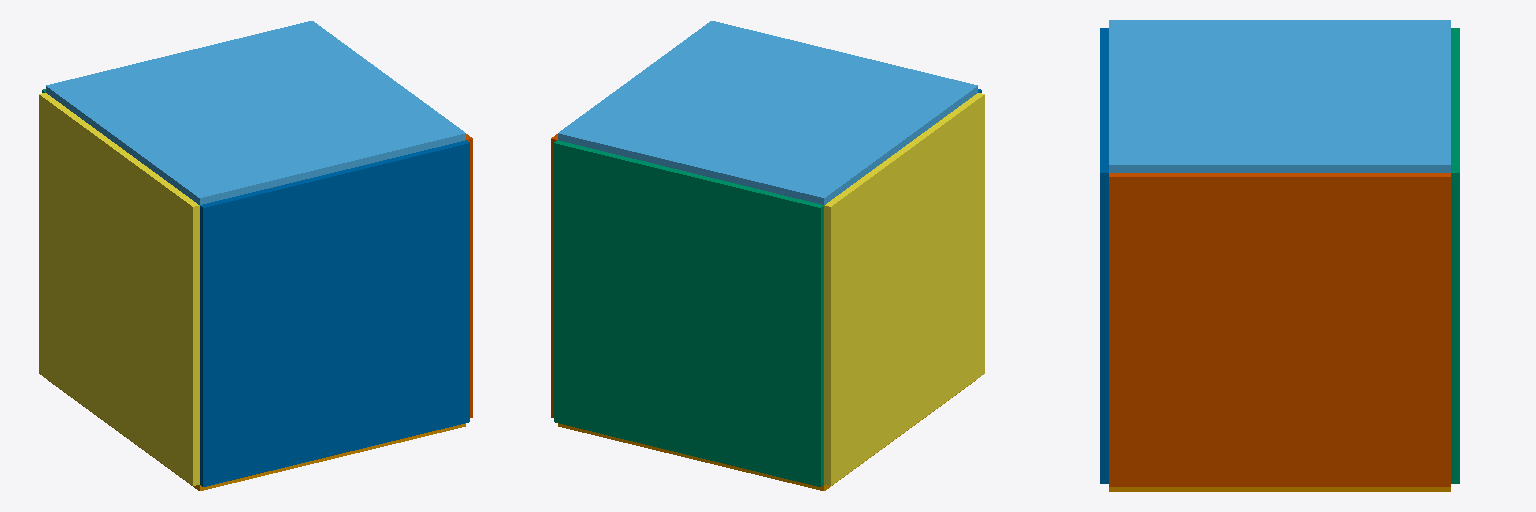
URDF robot description (box):
<?xml version="1.0"?>
<robot name="box">
	<link name="base_link">
		<visual>
			<geometry>
				<box size="1 1 0.05"/>
			</geometry>
			<origin xyz="0 0 0" rpy="0 0 0"/>
		</visual>
	</link>
    
    <link name="top_link">
        <visual>
            <geometry>
                <box size="1 1 0.05"/>
            </geometry>
            <origin xyz="0.5 0 0" rpy="0 0 0"/>
        </visual>
    </link>
    
    <joint name="top_to_back" type="revolute">
        <axis rpy="0 0 0" xyz="0 -1 0"/>
        <parent link="back_link"/>
        <child link="top_link"/>
        <limit effort="1000.0" lower="0" upper="1.57" velocity="0.5"/>
        <origin rpy="0 0 0" xyz="0 0 1"/>
    </joint>
    
    <link name="right_link">
    <visual>
        <geometry>
            <box size="1 1 0.05"/>
        </geometry>
        <origin xyz="0 0 0.5" rpy="1.5708 0 0"/>
    </visual>
    </link>

    <joint name="right_to_bottom" type="fixed">
        <parent link="base_link"/>
        <child link="right_link"/>
        <origin rpy="0 0 0" xyz="0 0.5 0"/>
    </joint>
    
    <link name="back_link">
    <visual>
        <geometry>
            <box size="1 1 0.05"/>
        </geometry>
        <origin xyz="0 0 0.5" rpy="1.5708 0 1.5708"/>
    </visual>
    </link>

    <joint name="back_to_bottom" type="fixed">
        <parent link="base_link"/>
        <child link="back_link"/>
        <origin rpy="0 0 0" xyz="-0.5 0 0"/>
    </joint>
    
    <link name="left_link">
    <visual>
        <geometry>
            <box size="1 1 0.05"/>
        </geometry>
        <origin xyz="0 0 0.5" rpy="1.5708 0 0"/>
    </visual>
    </link>

    <joint name="left_to_bottom" type="fixed">
        <parent link="base_link"/>
        <child link="left_link"/>
        <origin rpy="0 0 0" xyz="0 -0.5 0"/>
    </joint>
    
    <link name="front_link">
    <visual>
        <geometry>
            <box size="1 1 0.05"/>
        </geometry>
        <origin xyz="0 0 0.5" rpy="1.5708 0 1.5708"/>
    </visual>
    </link>

    <joint name="front_to_bottom" type="fixed">
        <parent link="base_link"/>
        <child link="front_link"/>
        <origin rpy="0 0 0" xyz="0.5 0 0"/>
    </joint>
    
</robot>

--- Facts derived from the render (not from the file) ---
Views: 3 orthographic renders of the robot side by side, from view 1: azimuth 30°, elevation 25°; view 2: azimuth 150°, elevation 25°; view 3: azimuth 270°, elevation 25°.
Model box with 6 links and 5 joints (1 revolute, 4 fixed), rooted at base_link, posed all joints at 0.
Visible links, largest first — view 1: left_link, back_link, top_link, base_link, front_link; view 2: right_link, back_link, top_link, base_link, front_link; view 3: front_link, top_link, right_link, left_link, base_link.
Boxes of the visible links, <box> form: left_link: <box>200,140,469,486</box>; back_link: <box>39,93,199,485</box>; top_link: <box>46,21,465,204</box>; base_link: <box>48,380,465,490</box>; front_link: <box>466,134,472,417</box>; right_link: <box>554,140,823,486</box>; back_link: <box>824,93,984,485</box>; top_link: <box>558,21,977,204</box>; base_link: <box>558,380,975,490</box>; front_link: <box>551,134,557,417</box>; front_link: <box>1109,173,1450,486</box>; top_link: <box>1109,20,1450,172</box>; right_link: <box>1451,28,1459,483</box>; left_link: <box>1100,28,1108,483</box>; base_link: <box>1109,487,1450,491</box>.
Bounding box of the posed robot: 1.05 × 1.05 × 1.05 m (x, y, z).
Geometry: primitives only (box / cylinder / sphere), no mesh files.
